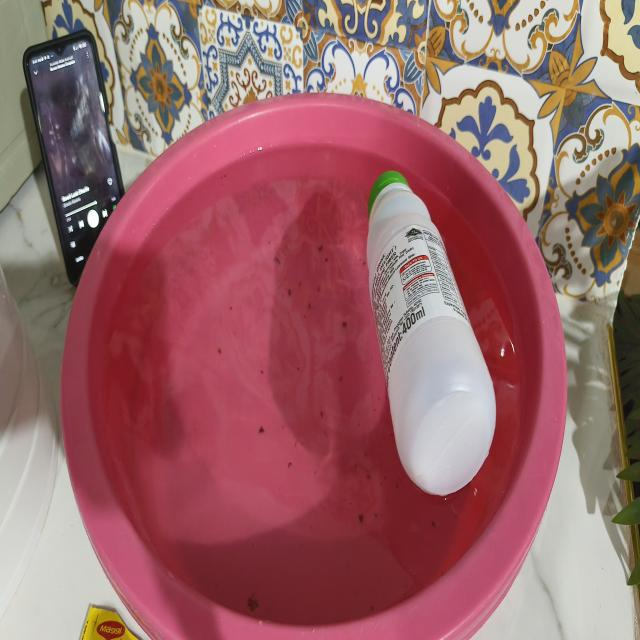Plastic Bottle: (367, 171, 496, 496)
